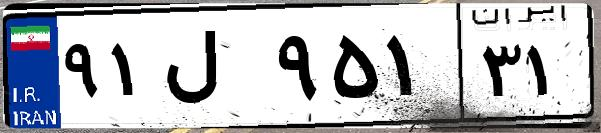1: (385, 28, 445, 110), (525, 38, 570, 115), (110, 28, 158, 98)
3: (475, 38, 525, 113)
5: (330, 28, 385, 110)
9: (270, 28, 330, 110), (57, 26, 110, 100)
ل: (158, 20, 270, 120)
